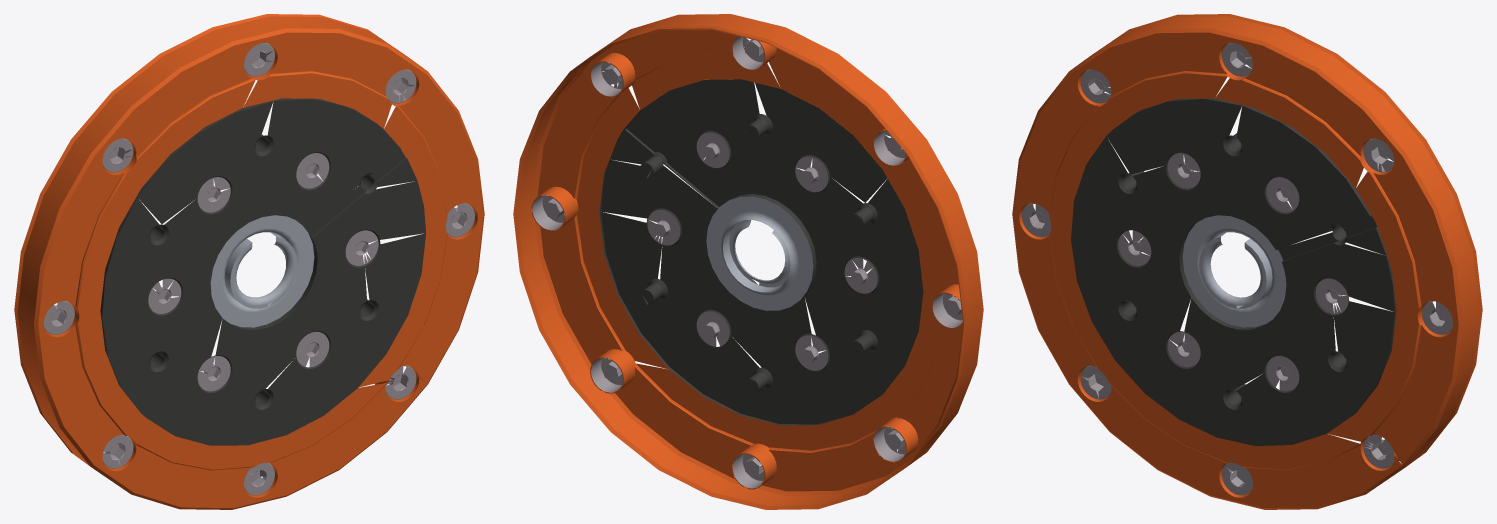
The model's file is igus_REBEL_j5.gltf.
3 renders of one model, left to right at view 1: azimuth 30°, elevation 25°; view 2: azimuth 150°, elevation 25°; view 3: azimuth 330°, elevation 25°, orthographic.
Parts seen in each view (by area): view 1: ReBel006.338; view 2: ReBel006.338; view 3: ReBel006.338.
Part boxes in pixels (box(x1,y1,x2,y2)): ReBel006.338: box(14, 14, 484, 509); ReBel006.338: box(513, 14, 983, 509); ReBel006.338: box(1012, 14, 1482, 509).
Bounding box in the file's own units: 0.08 × 0.0794 × 0.0075.
